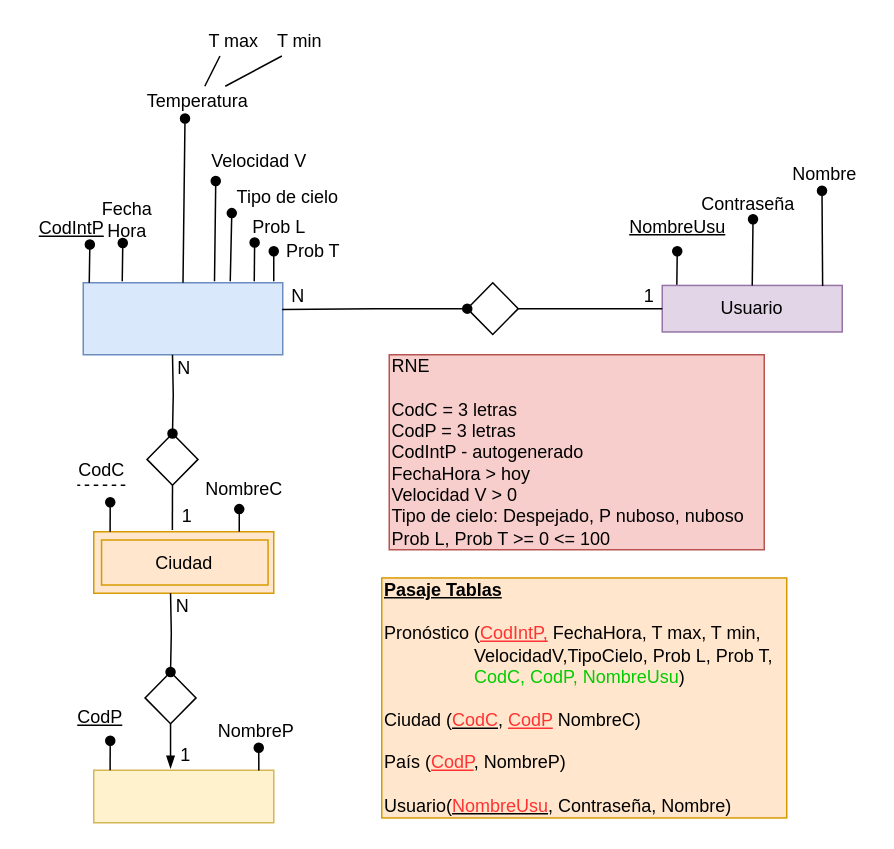
Some shapes in this 894 by 849 pixel diagram are drawn without their labels. The centre of each missing label's shape, as x and y in pixels:
País: the point at 183,796
Pronóstico: the point at 182,318
